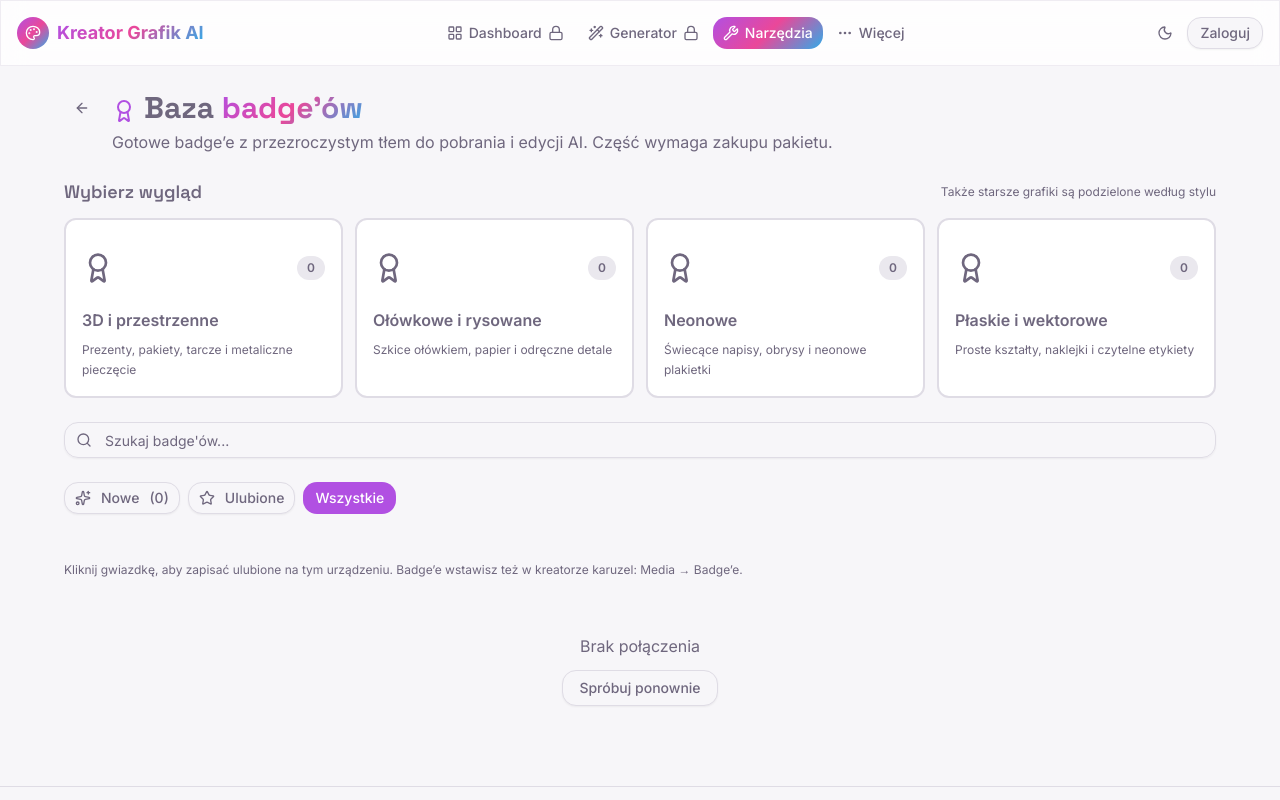
Test: does not fall back to unfiltered badges after a failed request and can retry
Expected: the message shows "Brak połączenia", [580,636,700,656]
Expected: the text "Widoczna grafika" is not shown
Click the button "Spróbuj ponownie".
click(640, 688)  # box [562,670,718,706]
(page scrolled)
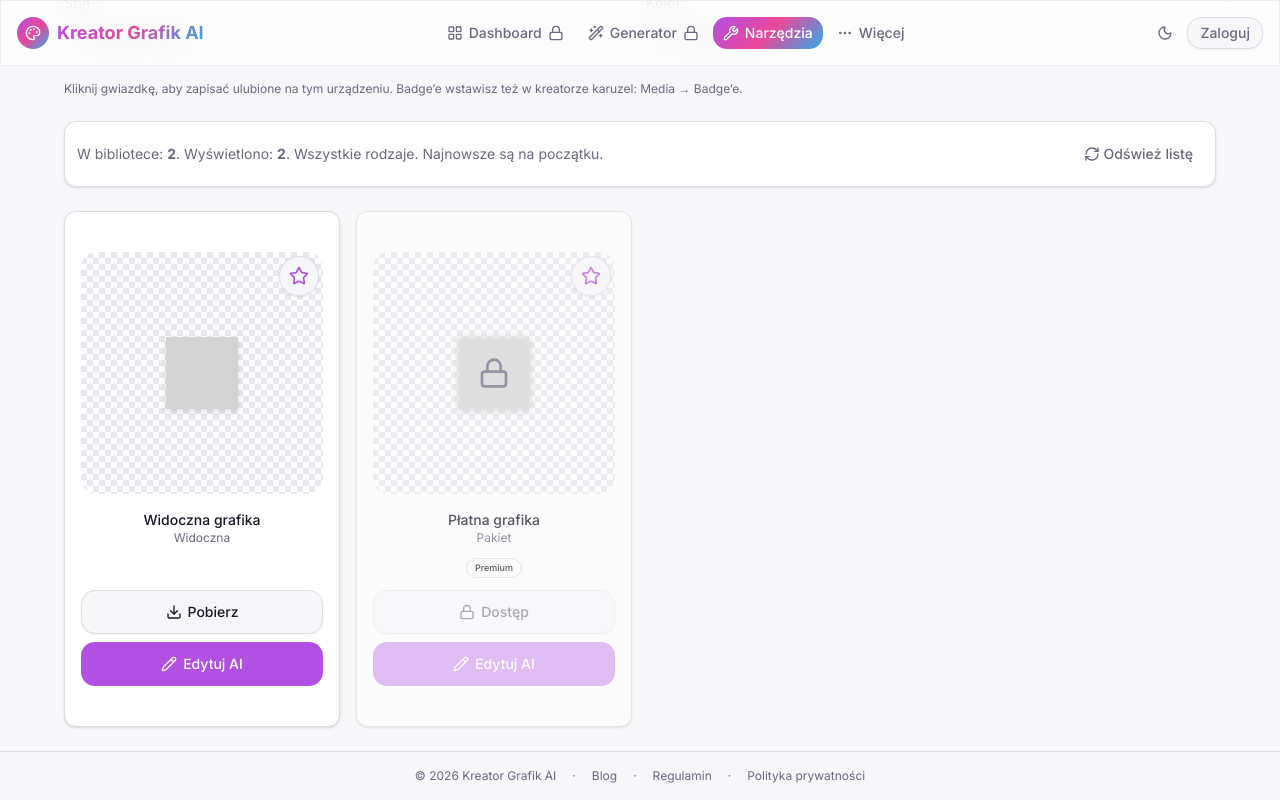
Result: the text "Widoczna grafika" is shown at [144,511,261,528]
